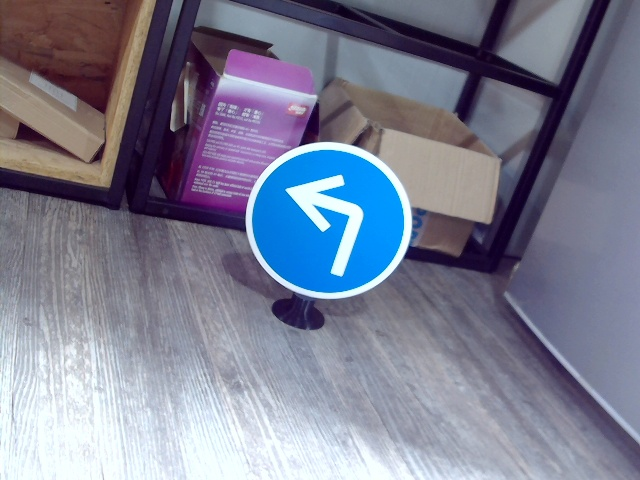turn_left: (281, 172, 368, 274)
